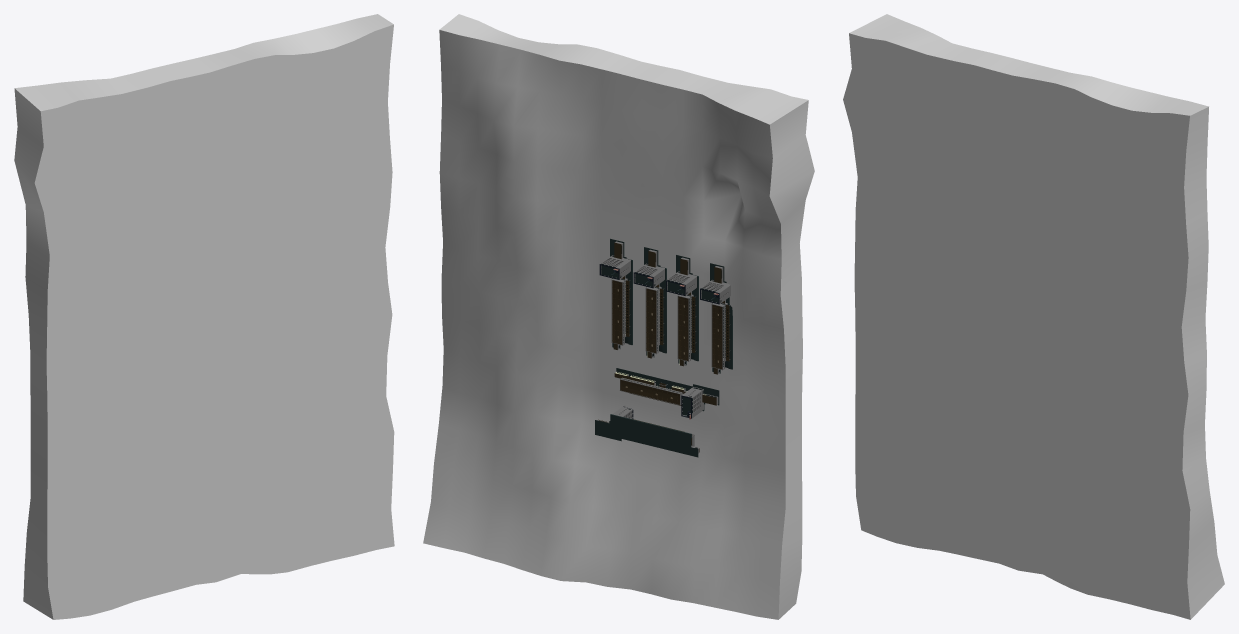
The picture shows the model from 3 angles, left to right: view 1: azimuth 30°, elevation 25°; view 2: azimuth 150°, elevation 25°; view 3: azimuth 330°, elevation 25°; orthographic projection. The views are drawn at different scales.
Visible parts, largest first — view 1: DX; view 2: DX, KEHLWALL005, KEHLWALL, KEHLWALL001, KEHLWALL002, KEHLWALL003, KEHLWALL004; view 3: DX.
Part boxes in pixels (<box>): DX: <box>14,14,394,619</box>; DX: <box>423,14,814,619</box>; KEHLWALL005: <box>595,405,699,457</box>; KEHLWALL: <box>614,368,719,419</box>; KEHLWALL001: <box>599,238,632,349</box>; KEHLWALL002: <box>633,247,666,358</box>; KEHLWALL003: <box>666,255,698,366</box>; KEHLWALL004: <box>700,263,732,374</box>; DX: <box>843,14,1224,619</box>.
Size of the model in its own units: 25.66 by 35.49 by 4.75.
Materials: 12 (1 with a texture image).
